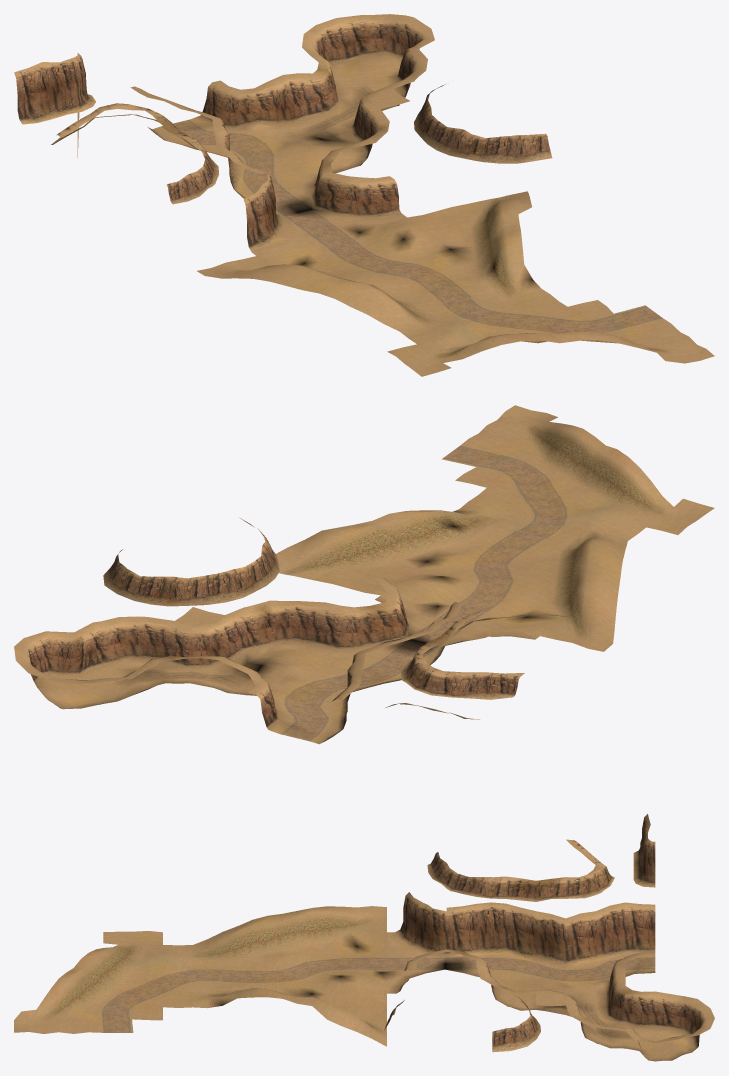
Rendered from Mis1_Zone1.glb.
The picture shows the model from 3 angles, top to bottom: view 1: azimuth 30°, elevation 25°; view 2: azimuth 150°, elevation 25°; view 3: azimuth 270°, elevation 25°; orthographic projection. The views are drawn at different scales.
Visible parts, largest first — view 1: MIS1_ZONE1189, MIS1_ZONE1177, MIS1_ZONE1100, MIS1_ZONE1101, MIS1_ZONE1178, MIS1_ZONE1170, MIS1_ZONE1097, MIS1_ZONE1190, MIS1_ZONE1169, MIS1_ZONE1109, MIS1_ZONE1171, MIS1_ZONE1136 (+40 smaller); view 2: MIS1_ZONE1175, MIS1_ZONE1136, MIS1_ZONE1186, MIS1_ZONE1149, MIS1_ZONE1162, MIS1_ZONE1124, MIS1_ZONE1070, MIS1_ZONE1115, MIS1_ZONE1116, MIS1_ZONE1109, MIS1_ZONE1082, MIS1_ZONE1051 (+62 smaller); view 3: MIS1_ZONE1120, MIS1_ZONE1167, MIS1_ZONE1113, MIS1_ZONE1144, MIS1_ZONE1107, MIS1_ZONE1183, MIS1_ZONE1156, MIS1_ZONE1132, MIS1_ZONE1098, MIS1_ZONE1155, MIS1_ZONE1173, MIS1_ZONE1039 (+58 smaller).
Boxes of the visible parts, <box> form: MIS1_ZONE1189: <box>345,19,393,67</box>; MIS1_ZONE1177: <box>14,62,48,118</box>; MIS1_ZONE1100: <box>313,176,365,227</box>; MIS1_ZONE1101: <box>349,176,398,218</box>; MIS1_ZONE1178: <box>42,57,77,110</box>; MIS1_ZONE1170: <box>229,81,276,126</box>; MIS1_ZONE1097: <box>243,185,274,246</box>; MIS1_ZONE1190: <box>372,14,413,59</box>; MIS1_ZONE1169: <box>199,86,250,142</box>; MIS1_ZONE1109: <box>304,164,348,216</box>; MIS1_ZONE1171: <box>268,73,307,119</box>; MIS1_ZONE1136: <box>341,103,389,154</box>; MIS1_ZONE1175: <box>63,622,113,679</box>; MIS1_ZONE1136: <box>217,607,264,664</box>; MIS1_ZONE1186: <box>14,631,65,682</box>; MIS1_ZONE1149: <box>165,615,215,667</box>; MIS1_ZONE1162: <box>114,621,166,674</box>; MIS1_ZONE1124: <box>265,605,316,653</box>; MIS1_ZONE1070: <box>344,525,394,568</box>; MIS1_ZONE1115: <box>343,606,397,659</box>; MIS1_ZONE1116: <box>316,602,368,649</box>; MIS1_ZONE1109: <box>370,592,419,646</box>; MIS1_ZONE1082: <box>294,537,344,572</box>; MIS1_ZONE1051: <box>413,510,463,550</box>; MIS1_ZONE1120: <box>491,902,526,959</box>; MIS1_ZONE1167: <box>610,902,640,957</box>; MIS1_ZONE1113: <box>461,902,491,957</box>; MIS1_ZONE1144: <box>549,918,580,969</box>; MIS1_ZONE1107: <box>427,906,461,957</box>; MIS1_ZONE1183: <box>634,991,677,1033</box>; MIS1_ZONE1156: <box>580,918,611,973</box>; MIS1_ZONE1132: <box>519,918,550,974</box>; MIS1_ZONE1098: <box>401,905,432,957</box>; MIS1_ZONE1155: <box>580,905,610,957</box>; MIS1_ZONE1173: <box>604,992,641,1033</box>; MIS1_ZONE1039: <box>222,925,252,957</box>.
Size of the model in its own units: 115 by 29.57 by 188.
Materials: 12 (12 with a texture image).
